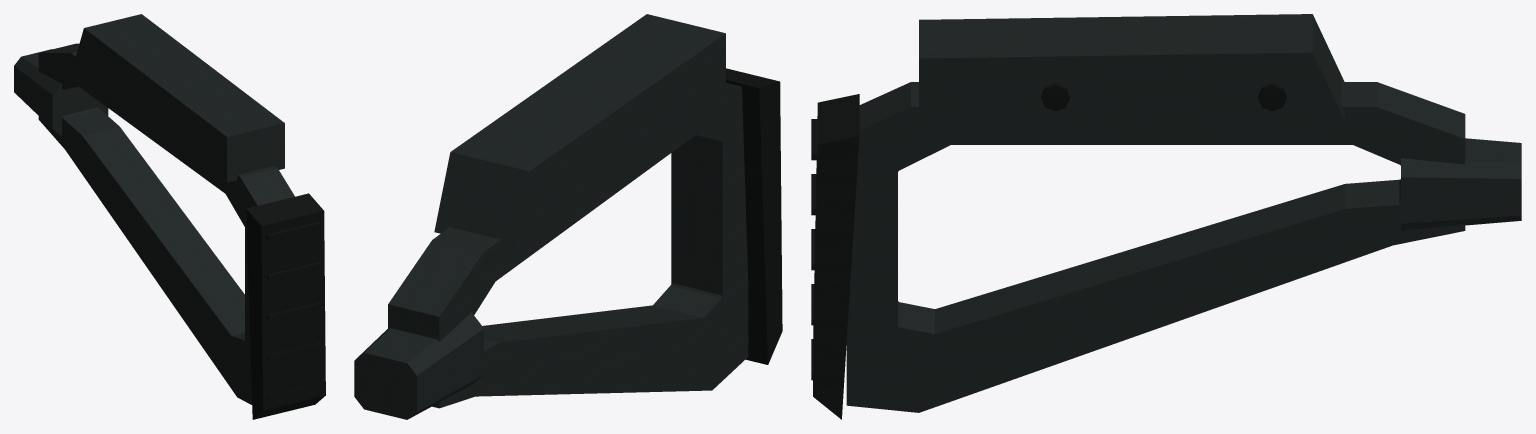
Rendered from g36_adjust.glb.
The picture shows the model from 3 angles, left to right: view 1: azimuth 30°, elevation 25°; view 2: azimuth 150°, elevation 25°; view 3: azimuth 270°, elevation 25°; orthographic projection. The views are drawn at different scales.
Visible parts, largest first — view 1: stock__g36_adjust_LOD0_RAID_Secondary_Original_polymer, stock__g36_adjust_LOD1_RAID_Secondary_Original_polymer, stock__g36_adjust_LOD1_RAID_Secondary_Original_rubber, stock__g36_adjust_LOD0_RAID_Secondary_Original_rubber; view 2: stock__g36_adjust_LOD0_RAID_Secondary_Original_polymer, stock__g36_adjust_LOD1_RAID_Secondary_Original_polymer, stock__g36_adjust_LOD1_RAID_Secondary_Original_rubber, stock__g36_adjust_LOD0_RAID_Secondary_Original_rubber; view 3: stock__g36_adjust_LOD0_RAID_Secondary_Original_polymer, stock__g36_adjust_LOD1_RAID_Secondary_Original_polymer, stock__g36_adjust_LOD0_RAID_Secondary_Original_rubber, stock__g36_adjust_LOD1_RAID_Secondary_Original_rubber.
Boxes of the visible parts, x1=… form: stock__g36_adjust_LOD0_RAID_Secondary_Original_polymer: x1=14, y1=14, x2=293, y2=398; stock__g36_adjust_LOD1_RAID_Secondary_Original_polymer: x1=38, y1=43, x2=294, y2=404; stock__g36_adjust_LOD1_RAID_Secondary_Original_rubber: x1=246, y1=193, x2=325, y2=419; stock__g36_adjust_LOD0_RAID_Secondary_Original_rubber: x1=246, y1=195, x2=322, y2=416; stock__g36_adjust_LOD0_RAID_Secondary_Original_polymer: x1=354, y1=14, x2=747, y2=419; stock__g36_adjust_LOD1_RAID_Secondary_Original_polymer: x1=388, y1=83, x2=748, y2=408; stock__g36_adjust_LOD1_RAID_Secondary_Original_rubber: x1=726, y1=68, x2=782, y2=364; stock__g36_adjust_LOD0_RAID_Secondary_Original_rubber: x1=726, y1=69, x2=781, y2=362; stock__g36_adjust_LOD0_RAID_Secondary_Original_polymer: x1=848, y1=14, x2=1521, y2=408; stock__g36_adjust_LOD1_RAID_Secondary_Original_polymer: x1=846, y1=82, x2=1465, y2=412; stock__g36_adjust_LOD0_RAID_Secondary_Original_rubber: x1=811, y1=83, x2=1286, y2=410; stock__g36_adjust_LOD1_RAID_Secondary_Original_rubber: x1=813, y1=94, x2=859, y2=419.
Bounding box in the file's own units: 0.0625 × 0.252 × 0.442.
Materials: 2 (2 with a texture image).
